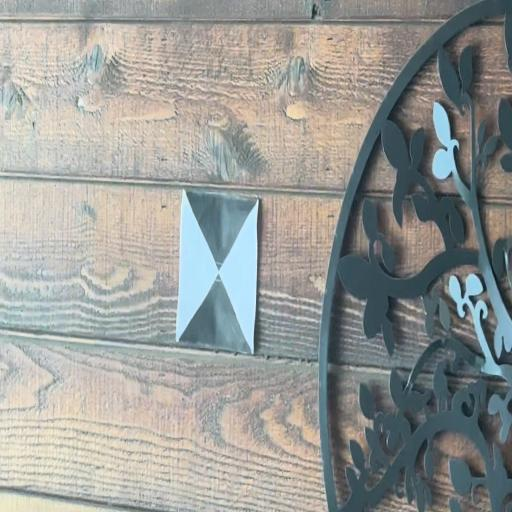target: (174, 192, 259, 351)
